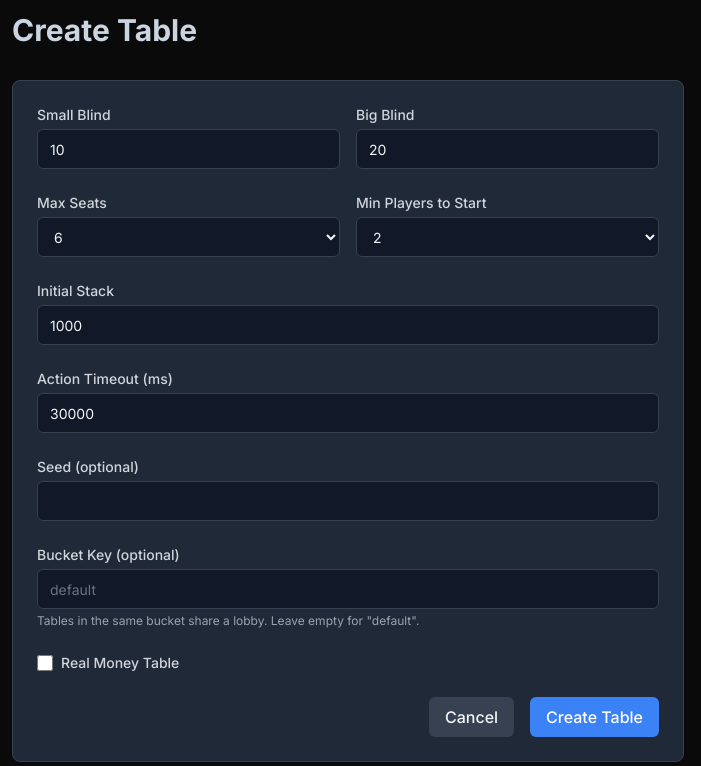
Test: CreateTableForm › should validate big blind >= small blind
Replace the text in the number field labelled "Small Blind" with "20" at (188, 149), box [37,129,340,169]
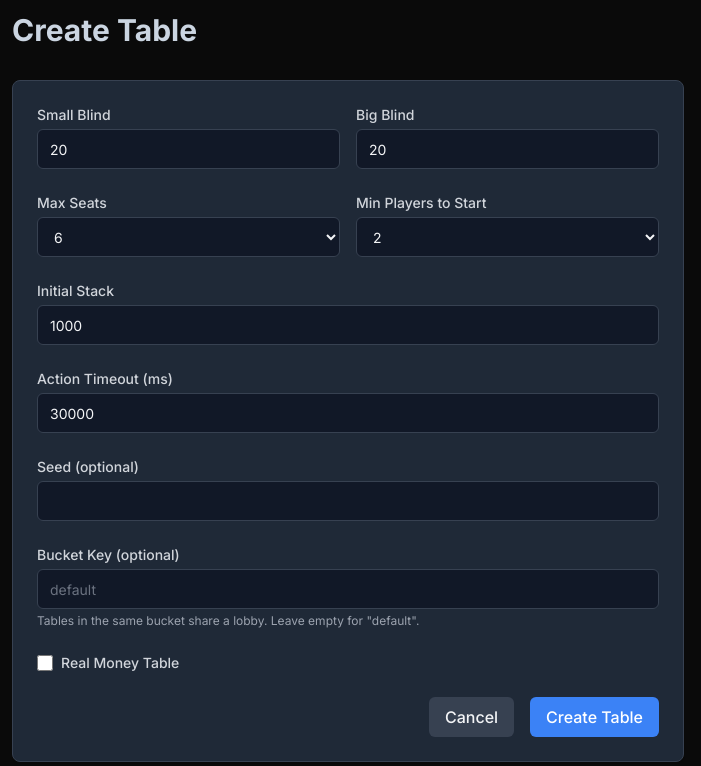
Replace the text in the number field labelled "Big Blind" with "10" at (508, 149), box [356,129,659,169]
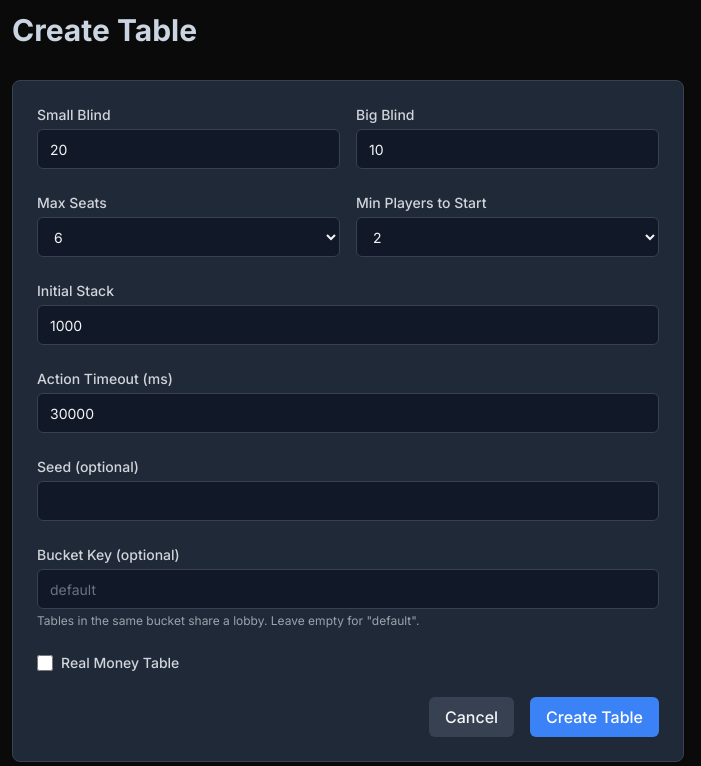
Click the button "Create Table" at (595, 717), box [530,697,659,737]
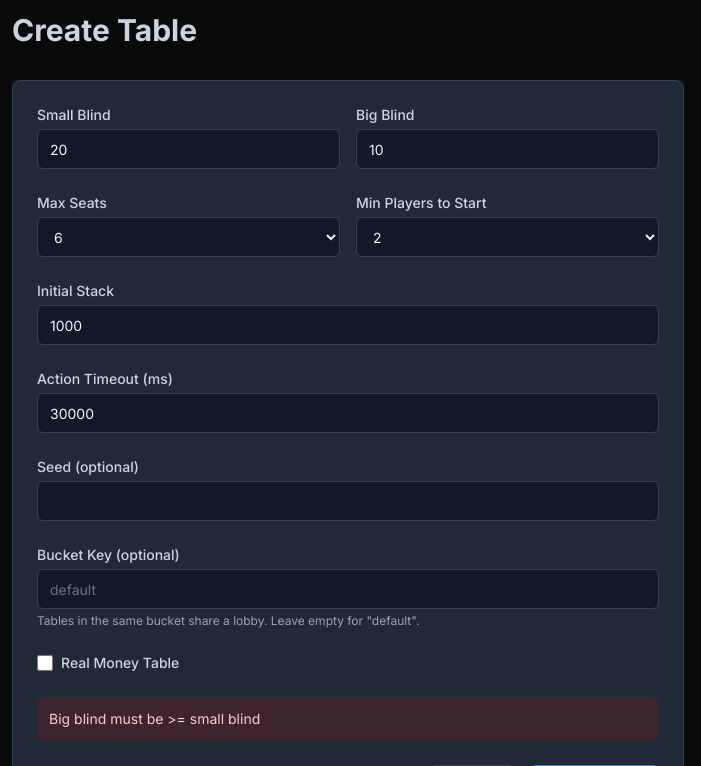
Expected: the text "Big blind must be >= small blind" is shown, [37,697,659,741]
